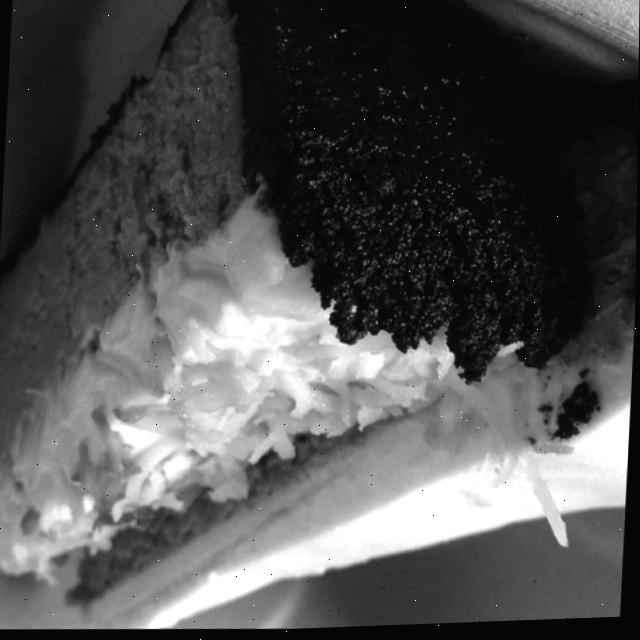蛋糕甜品: (0, 0, 638, 623)
